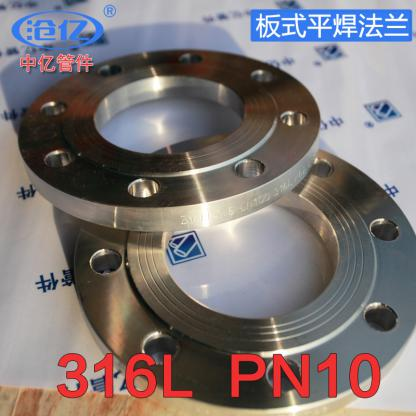FOD: (63, 126, 415, 415), (9, 38, 325, 236)
